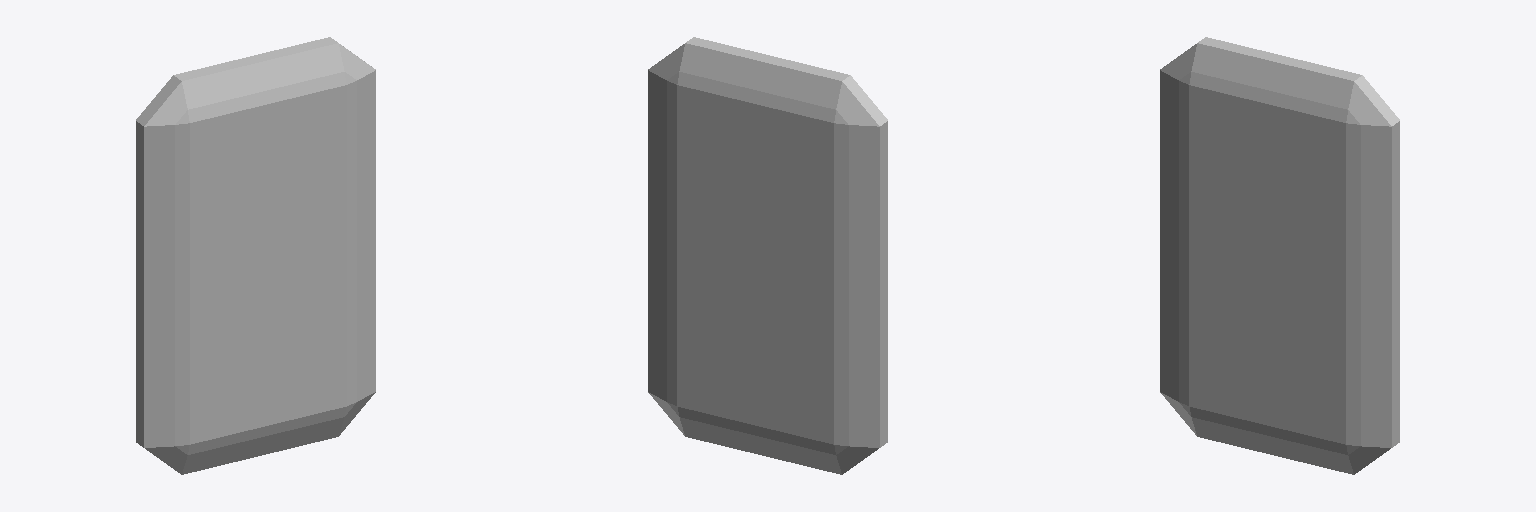
The model's file is emerald.obj.
3 renders of one model, left to right at view 1: azimuth 30°, elevation 25°; view 2: azimuth 150°, elevation 25°; view 3: azimuth 330°, elevation 25°, orthographic.
Visible parts, largest first — view 1: Plane; view 2: Plane; view 3: Plane.
Boxes of the visible parts, x1=… form: Plane: x1=136, y1=37, x2=375, y2=474; Plane: x1=648, y1=37, x2=887, y2=474; Plane: x1=1160, y1=37, x2=1399, y2=474.
Size of the model in its own units: 1.51 by 2.45 by 0.2754.